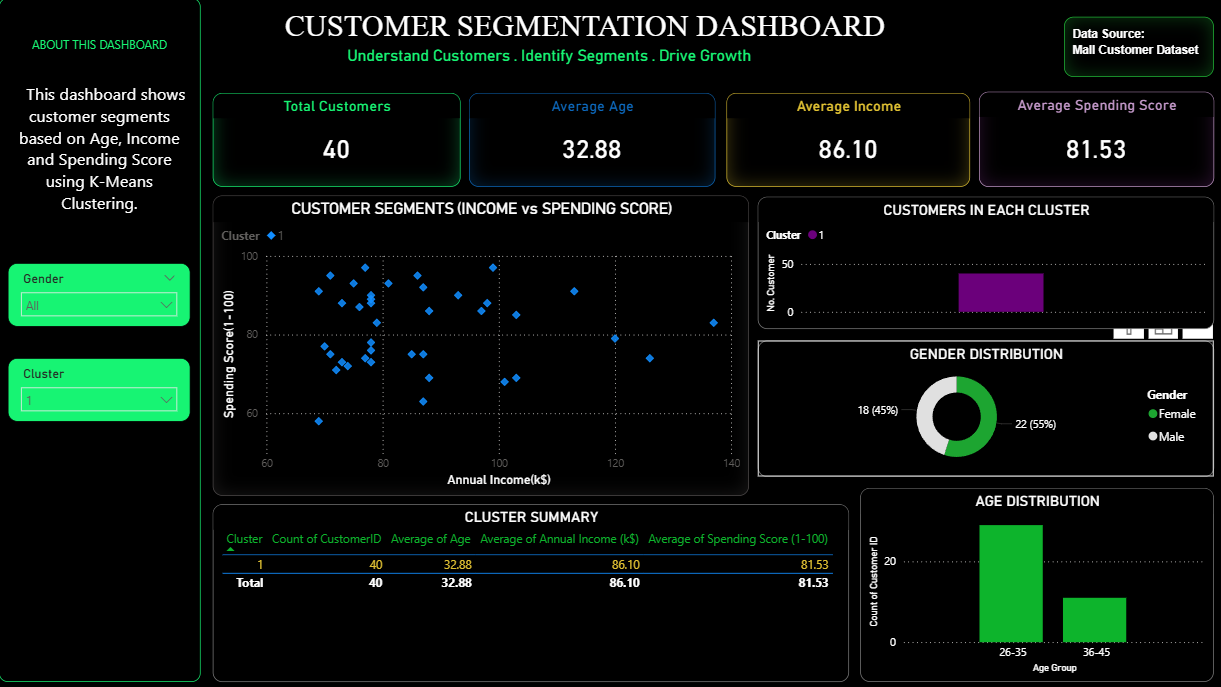

Layout of this report page (visuals, bound fields, positions):
{"tool":"powerbi","page":{"name":"Page 1","canvas":[1400,790],"ordinal":0},"visuals":[{"type":"textbox","title":"CUSTOMER SEGMENTATION DASHBOARD","box":[317.5,11.2,705,60],"z":0},{"type":"textbox","title":"Understand Customers . Identify Segments . Drive Growth","box":[296.2,56.2,666.2,30],"z":1000},{"type":"textbox","box":[0,0,230,781.4],"z":2000},{"type":"slicer","fields":{"Values":["customer_segments.Gender"]},"box":[10,302.9,208.6,72.9],"z":3000},{"type":"slicer","fields":{"Values":["customer_segments.Cluster"]},"box":[10,411.4,208.6,72.9],"z":4000},{"type":"card","title":"Total Customers","fields":{"Values":["CountNonNull(customer_segments.CustomerID)"]},"box":[244.3,108.6,282.9,107.1],"z":5000},{"type":"card","title":"Average Age","fields":{"Values":["Avg(customer_segments.Age)"]},"box":[537.1,108.6,281.4,107.1],"z":6000},{"type":"card","title":"Average Income","fields":{"Values":["Avg(customer_segments.Annual Income (k$))"]},"box":[831.4,108.6,278.6,107.1],"z":7000},{"type":"card","title":"Average Spending Score","fields":{"Values":["Avg(customer_segments.Spending Score (1-100))"]},"box":[1120,107.1,268.6,108.6],"z":8000},{"type":"textbox","box":[1217.1,21.4,171.4,68.6],"z":9000},{"type":"scatterChart","title":"CUSTOMER SEGMENTS (INCOME vs SPENDING SCORE)","fields":{"X":["customer_segments.Annual Income (k$)"],"Y":["customer_segments.Spending Score (1-100)"],"Series":["customer_segments.Cluster"]},"box":[244.3,225.7,612.9,342.9],"z":10000},{"type":"tableEx","title":"CLUSTER SUMMARY","fields":{"Values":["customer_segments.Cluster","CountNonNull(customer_segments.CustomerID)","Avg(customer_segments.Age)","Avg(customer_segments.Annual Income (k$))","Avg(customer_segments.Spending Score (1-100))"]},"box":[244.3,578.6,727.1,202.9],"z":11000},{"type":"columnChart","title":"AGE DISTRIBUTION","fields":{"Y":["CountNonNull(customer_segments.CustomerID)"],"Category":["customer_segments.Age Group"]},"box":[984.3,560,404.3,221.4],"z":12000},{"type":"donutChart","title":"GENDER DISTRIBUTION","fields":{"Category":["customer_segments.Gender"],"Y":["CountNonNull(customer_segments.CustomerID)"]},"box":[867.1,391.4,521.4,155.7],"z":13000},{"type":"clusteredColumnChart","title":"CUSTOMERS IN EACH CLUSTER","fields":{"Y":["CountNonNull(customer_segments.CustomerID)"],"Series":["customer_segments.Cluster"]},"box":[867,227.7,521.6,150.9],"z":14000}]}

Visuals, with their boxes in screenshot pixels (x1, y1, x2, y2), scaled from the page's 1400x790 canvas onto the 1221x687 screenshot:
"CUSTOMER SEGMENTATION DASHBOARD" textbox: bbox=[277, 10, 892, 62]
"Understand Customers . Identify Segments . Drive Growth" textbox: bbox=[258, 49, 839, 75]
textbox: bbox=[0, 0, 201, 680]
slicer - customer_segments.Gender: bbox=[9, 263, 191, 327]
slicer - customer_segments.Cluster: bbox=[9, 358, 191, 421]
"Total Customers" card: bbox=[213, 94, 460, 188]
"Average Age" card: bbox=[468, 94, 714, 188]
"Average Income" card: bbox=[725, 94, 968, 188]
"Average Spending Score" card: bbox=[977, 93, 1211, 188]
textbox: bbox=[1061, 19, 1211, 78]
"CUSTOMER SEGMENTS (INCOME vs SPENDING SCORE)" scatterChart: bbox=[213, 196, 748, 494]
"CLUSTER SUMMARY" tableEx: bbox=[213, 503, 847, 680]
"AGE DISTRIBUTION" columnChart: bbox=[858, 487, 1211, 680]
"GENDER DISTRIBUTION" donutChart: bbox=[756, 340, 1211, 476]
"CUSTOMERS IN EACH CLUSTER" clusteredColumnChart: bbox=[756, 198, 1211, 329]
